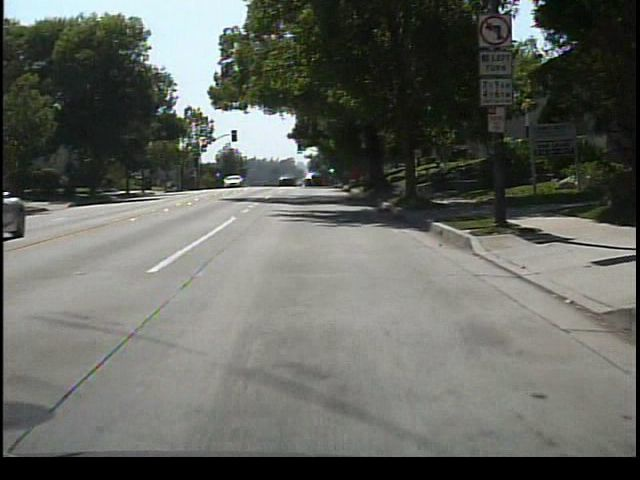person: (431, 155, 452, 193)
